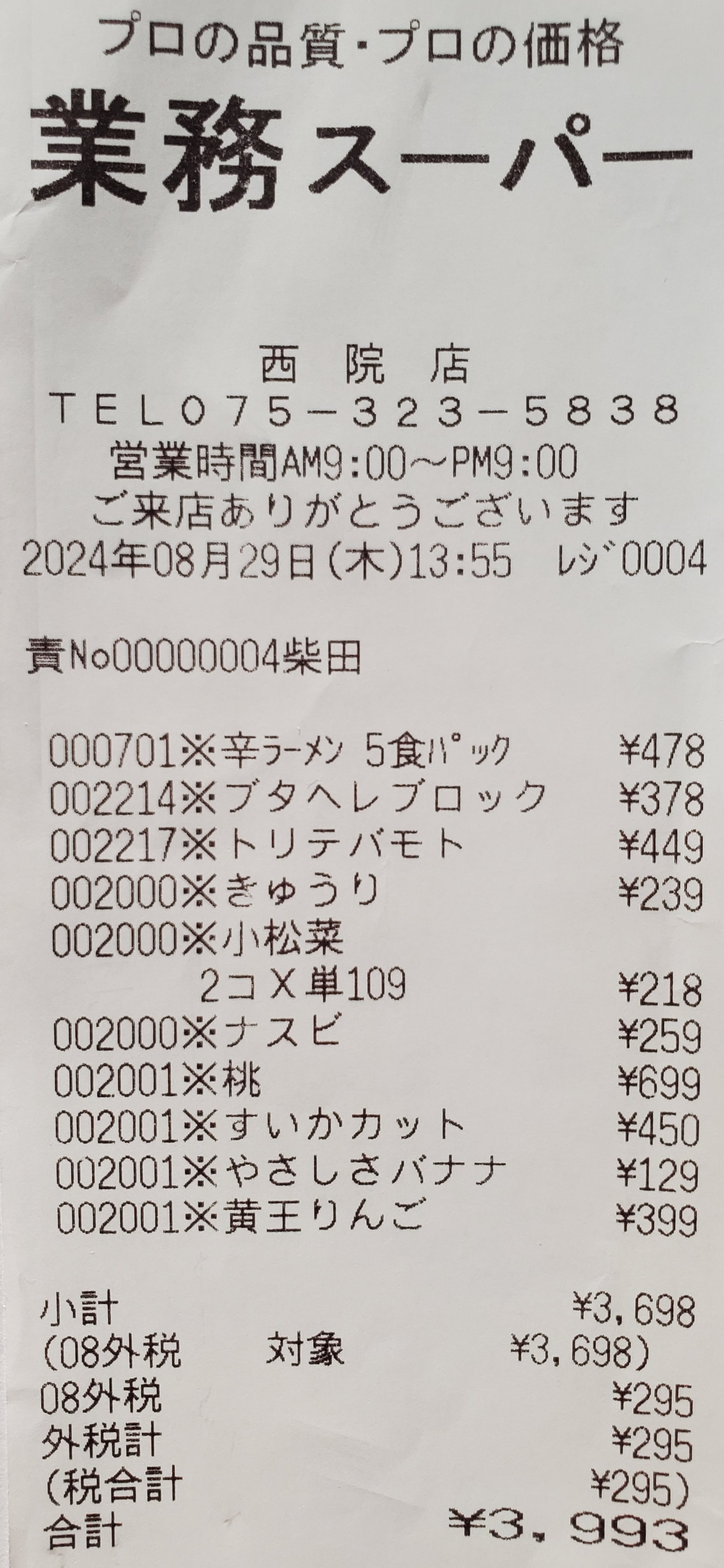Date: (14, 528, 329, 588)
Shopname: (17, 56, 717, 241)
Telnum: (164, 382, 696, 438)
Totalpay: (26, 1504, 714, 1556)
